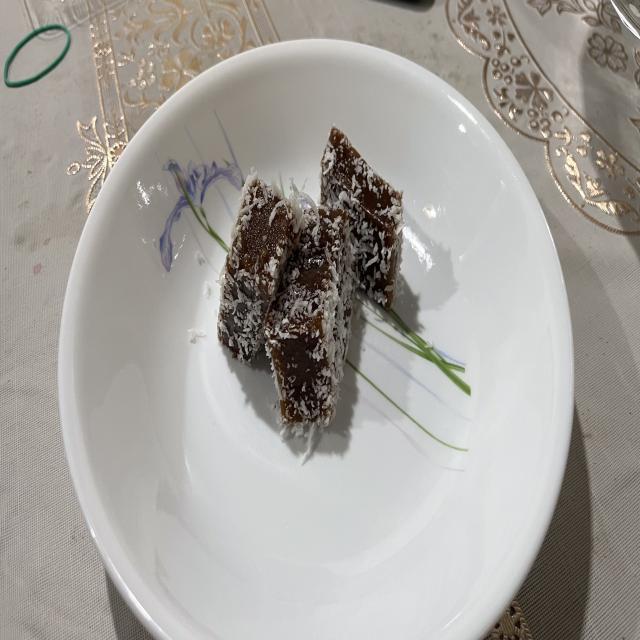kaswi: (264, 207, 356, 436), (320, 127, 404, 309), (218, 169, 295, 362)
